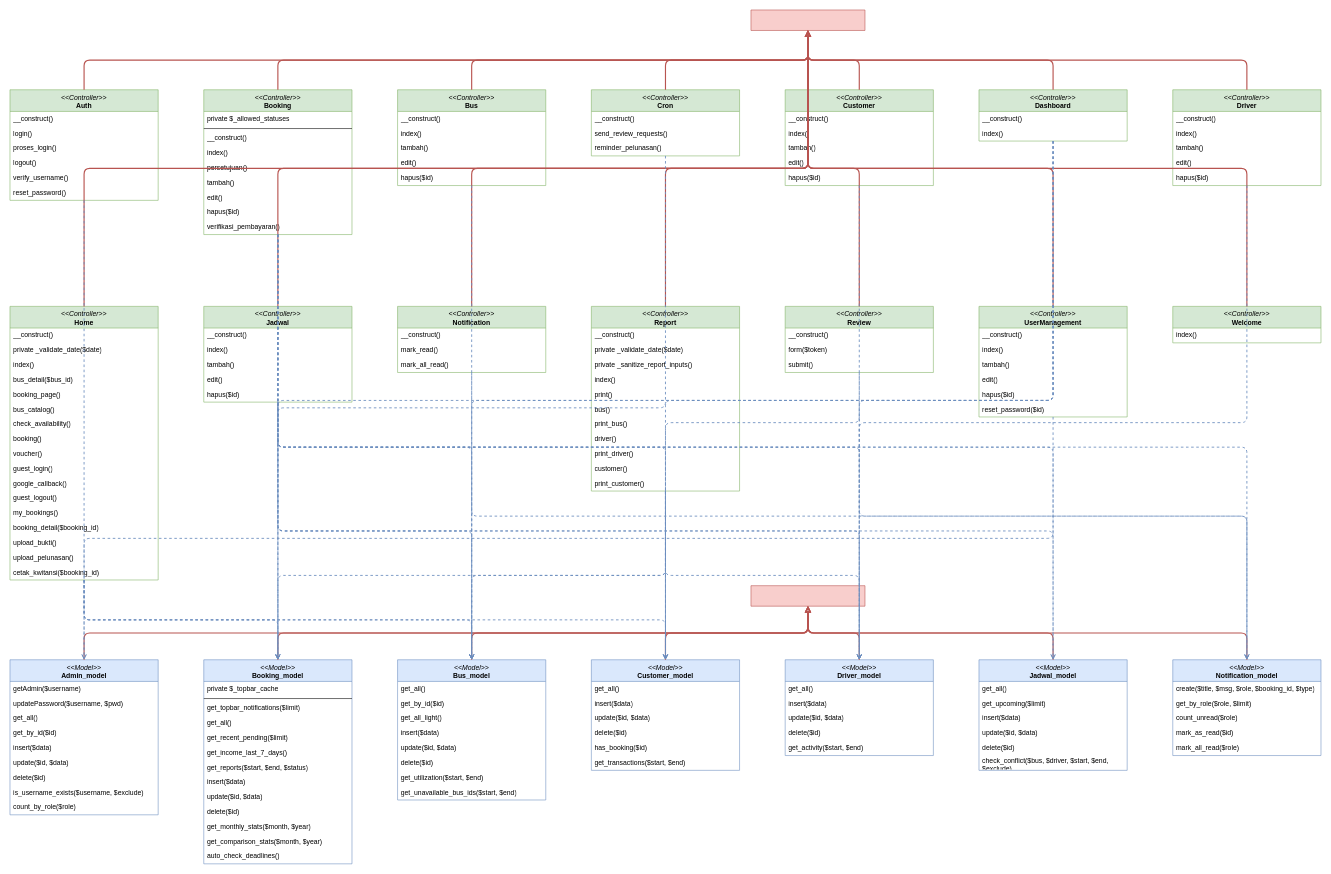
The diagram is 1331 pixels wide and 874 high, and some of its shapes have lost their labels. The shapes that lost their labels are listed below. From the top down, each one's centre as x and y in pixels, then its label:
At pixel 807 19: "<<System Class>> CI_Controller".
At pixel 807 595: "<<System Class>> CI_Model".
